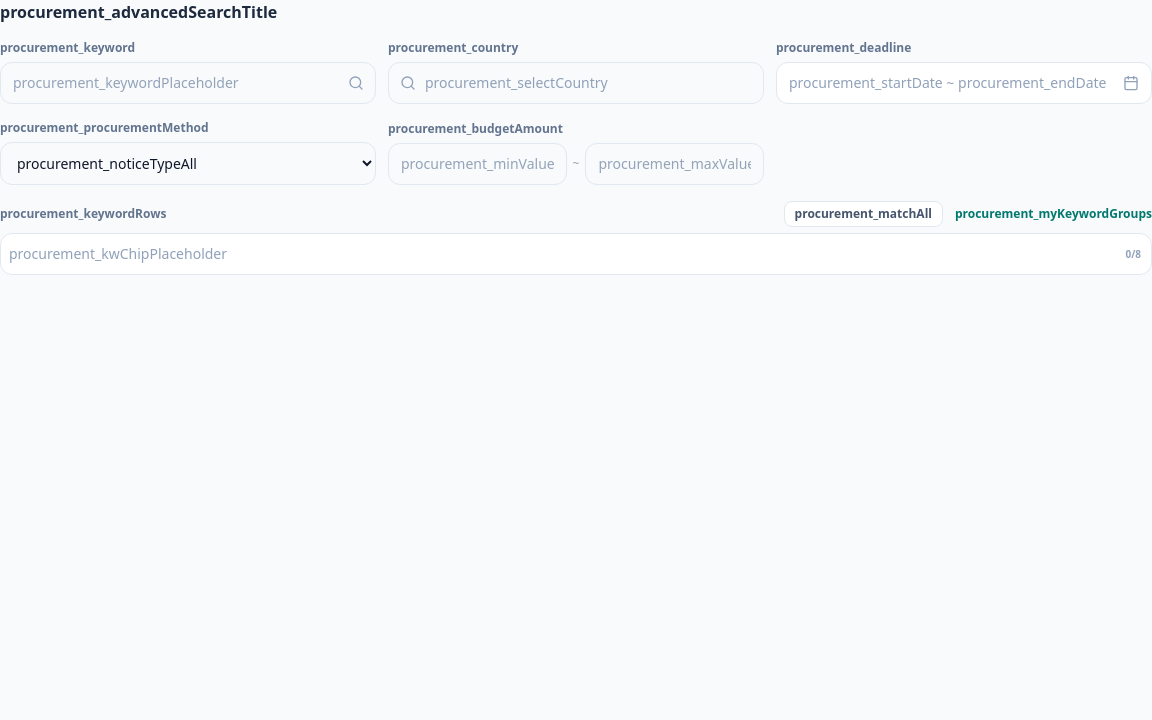
Test case: 「我的词组」下拉加载 › 我的词组请求失败呈现为可重试，不伪装成无权益空态
What coordinates should you click on to do the following:
click the button with test id "kw-group-picker"
I would click on:
 (1054, 214)
Its box is top-left (955, 206), bottom-right (1151, 222).
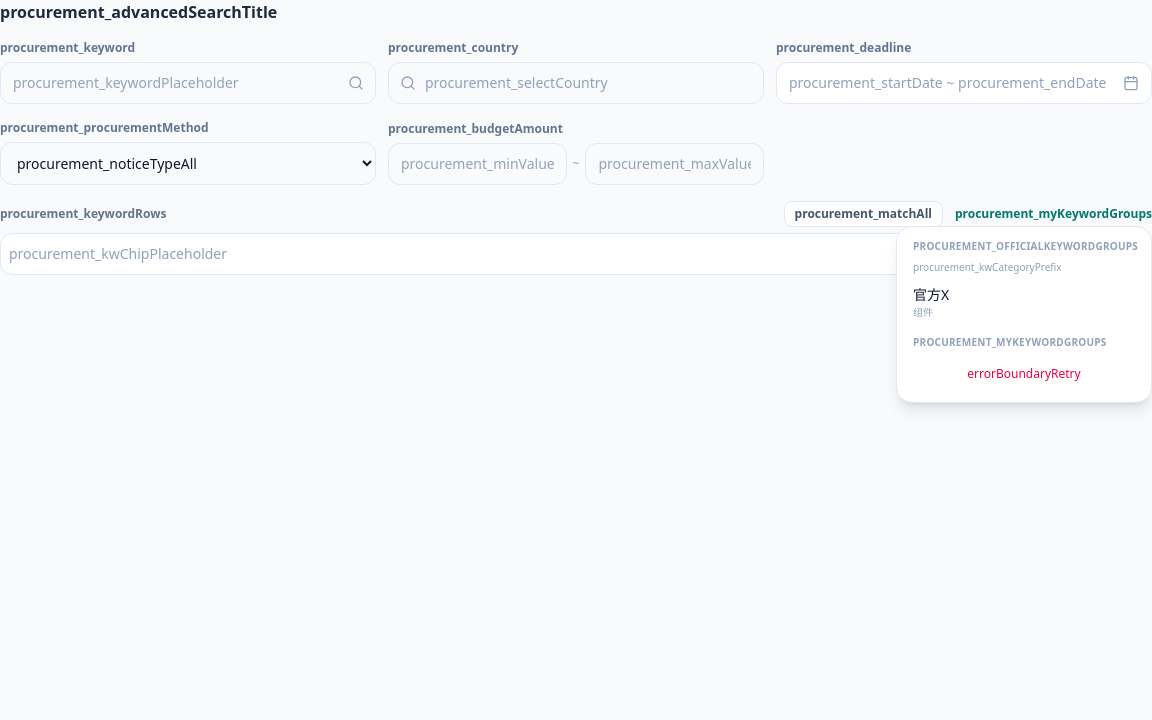
Expected: the text "procurement_manageKeywordGroups" is not shown
Now the button with test id "kw-group-retry" is shown
What coordinates should you click on to do the following:
click the button with test id "kw-group-retry"
I would click on:
 (1024, 374)
Its box is top-left (905, 354), bottom-right (1143, 394).
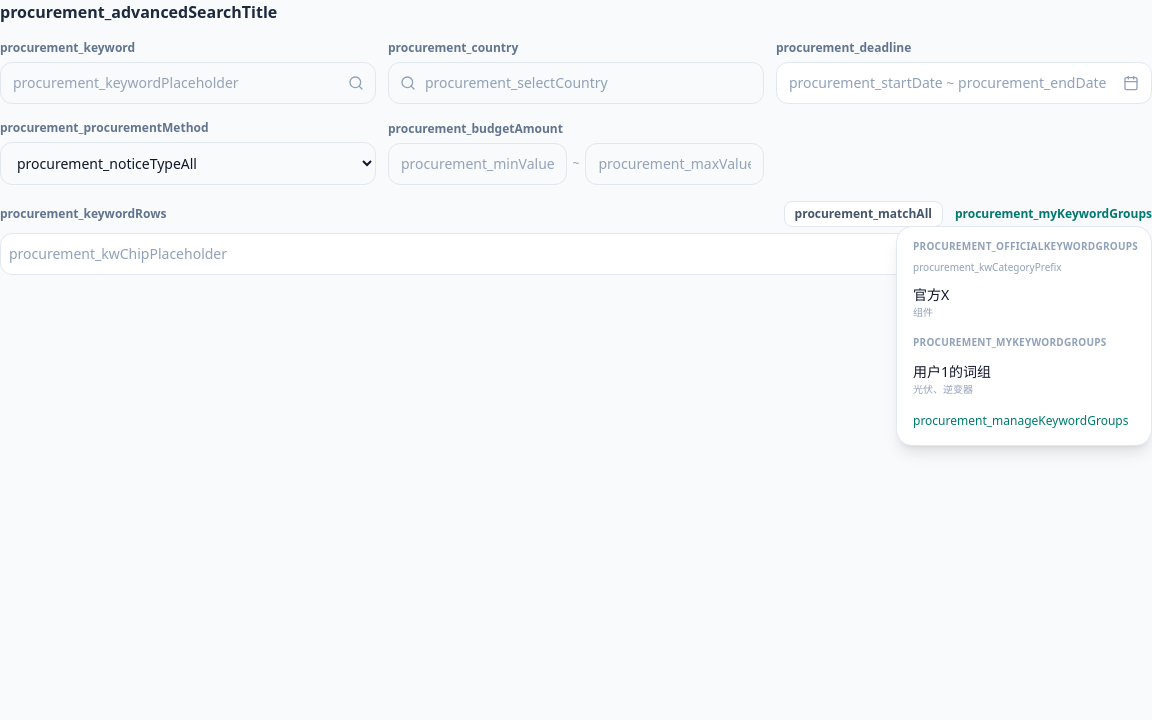
Now the button "用户1的词组 光伏、逆变器" is shown, box top-left (905, 354), bottom-right (1143, 405)
